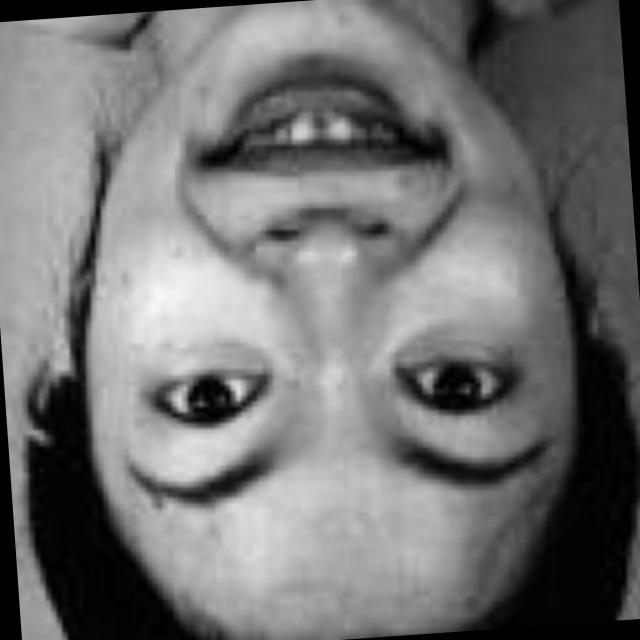surprise: (56, 0, 595, 613)
